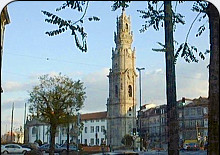clerigos: (105, 6, 138, 148)
